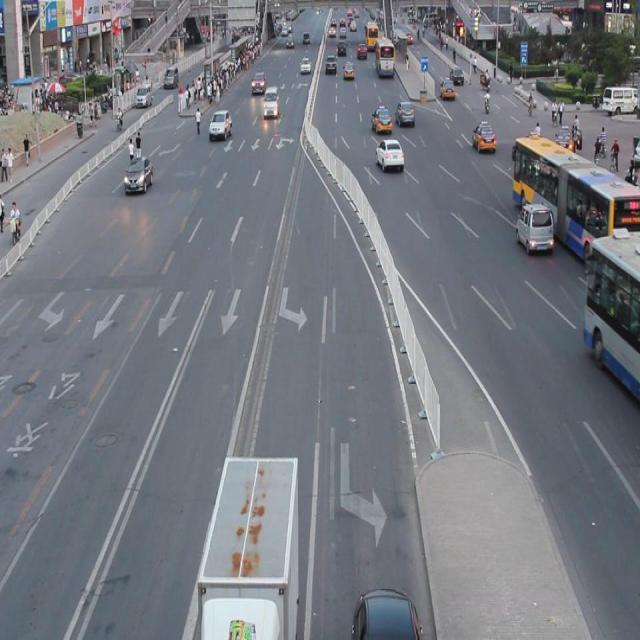BigCar: (200, 439, 317, 640), (500, 109, 640, 269), (376, 34, 402, 84), (361, 6, 383, 60)
car: (114, 140, 160, 201), (204, 100, 246, 137), (465, 113, 493, 168), (370, 94, 397, 142), (129, 80, 158, 124), (392, 99, 418, 142), (253, 92, 286, 124), (432, 70, 452, 113), (378, 141, 406, 170), (338, 62, 363, 86), (248, 74, 266, 95), (356, 39, 369, 62), (326, 50, 338, 70), (446, 71, 456, 93)
